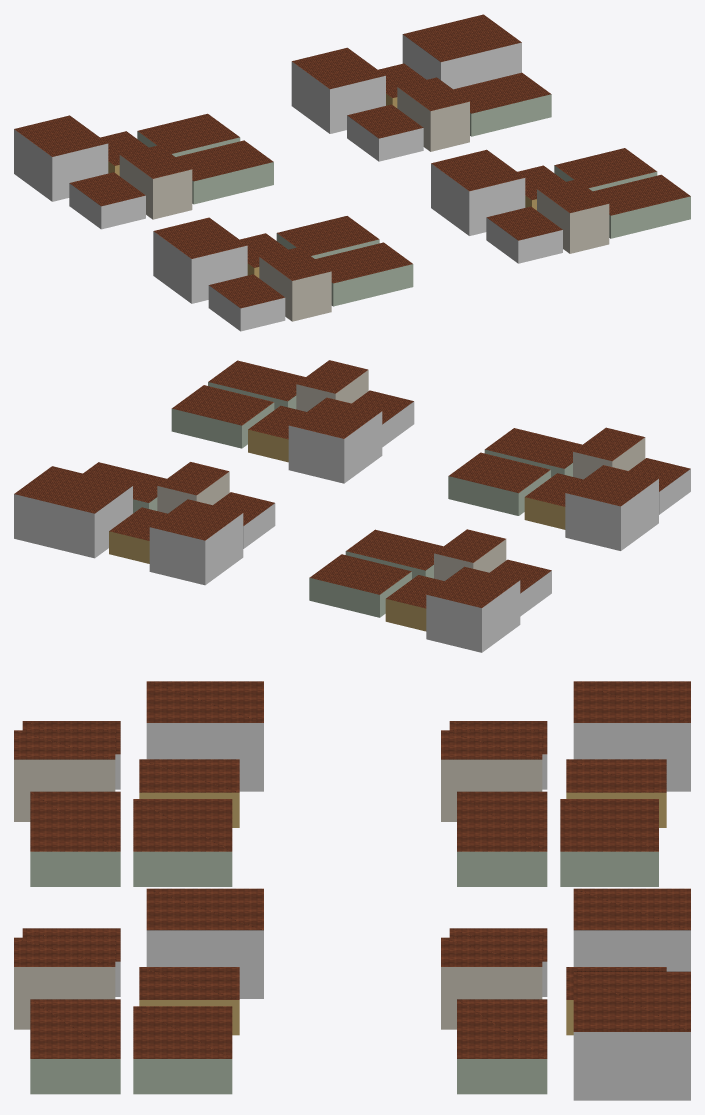
Rendered from cidade_S03_03.gltf.
3 renders of one model, top to bottom at view 1: azimuth 30°, elevation 25°; view 2: azimuth 150°, elevation 25°; view 3: azimuth 270°, elevation 25°, orthographic. The views are drawn at different scales.
Visible parts, largest first — view 1: S03_03_Estatico; view 2: S03_03_Estatico; view 3: S03_03_Estatico.
Part boxes in pixels (x1=…): S03_03_Estatico: x1=14, y1=14, x2=690, y2=331; S03_03_Estatico: x1=14, y1=360, x2=690, y2=652; S03_03_Estatico: x1=14, y1=681, x2=690, y2=1100.
Bounding box in the file's own units: 77.8 × 7.1 × 63.44.
Materials: 5 (5 with a texture image).
